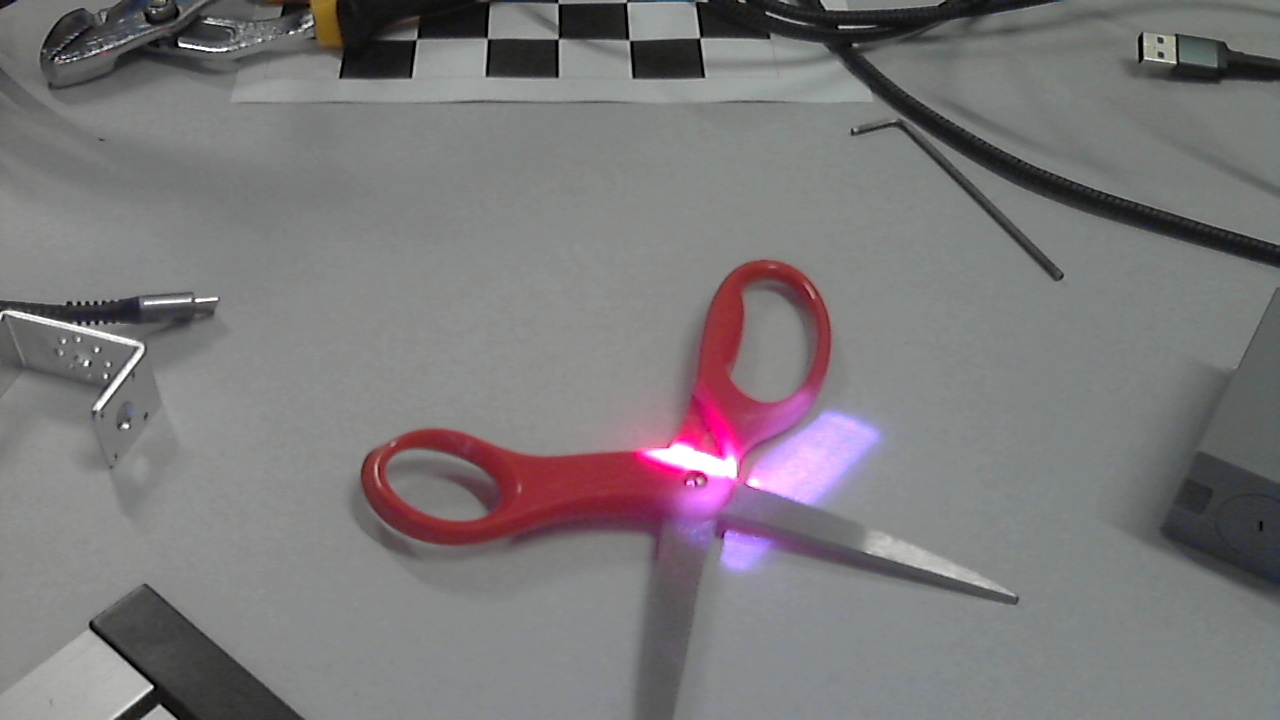Object scissors - Material plastic - Pdfname tYexGlkiIXWc: (620, 418, 813, 551)
